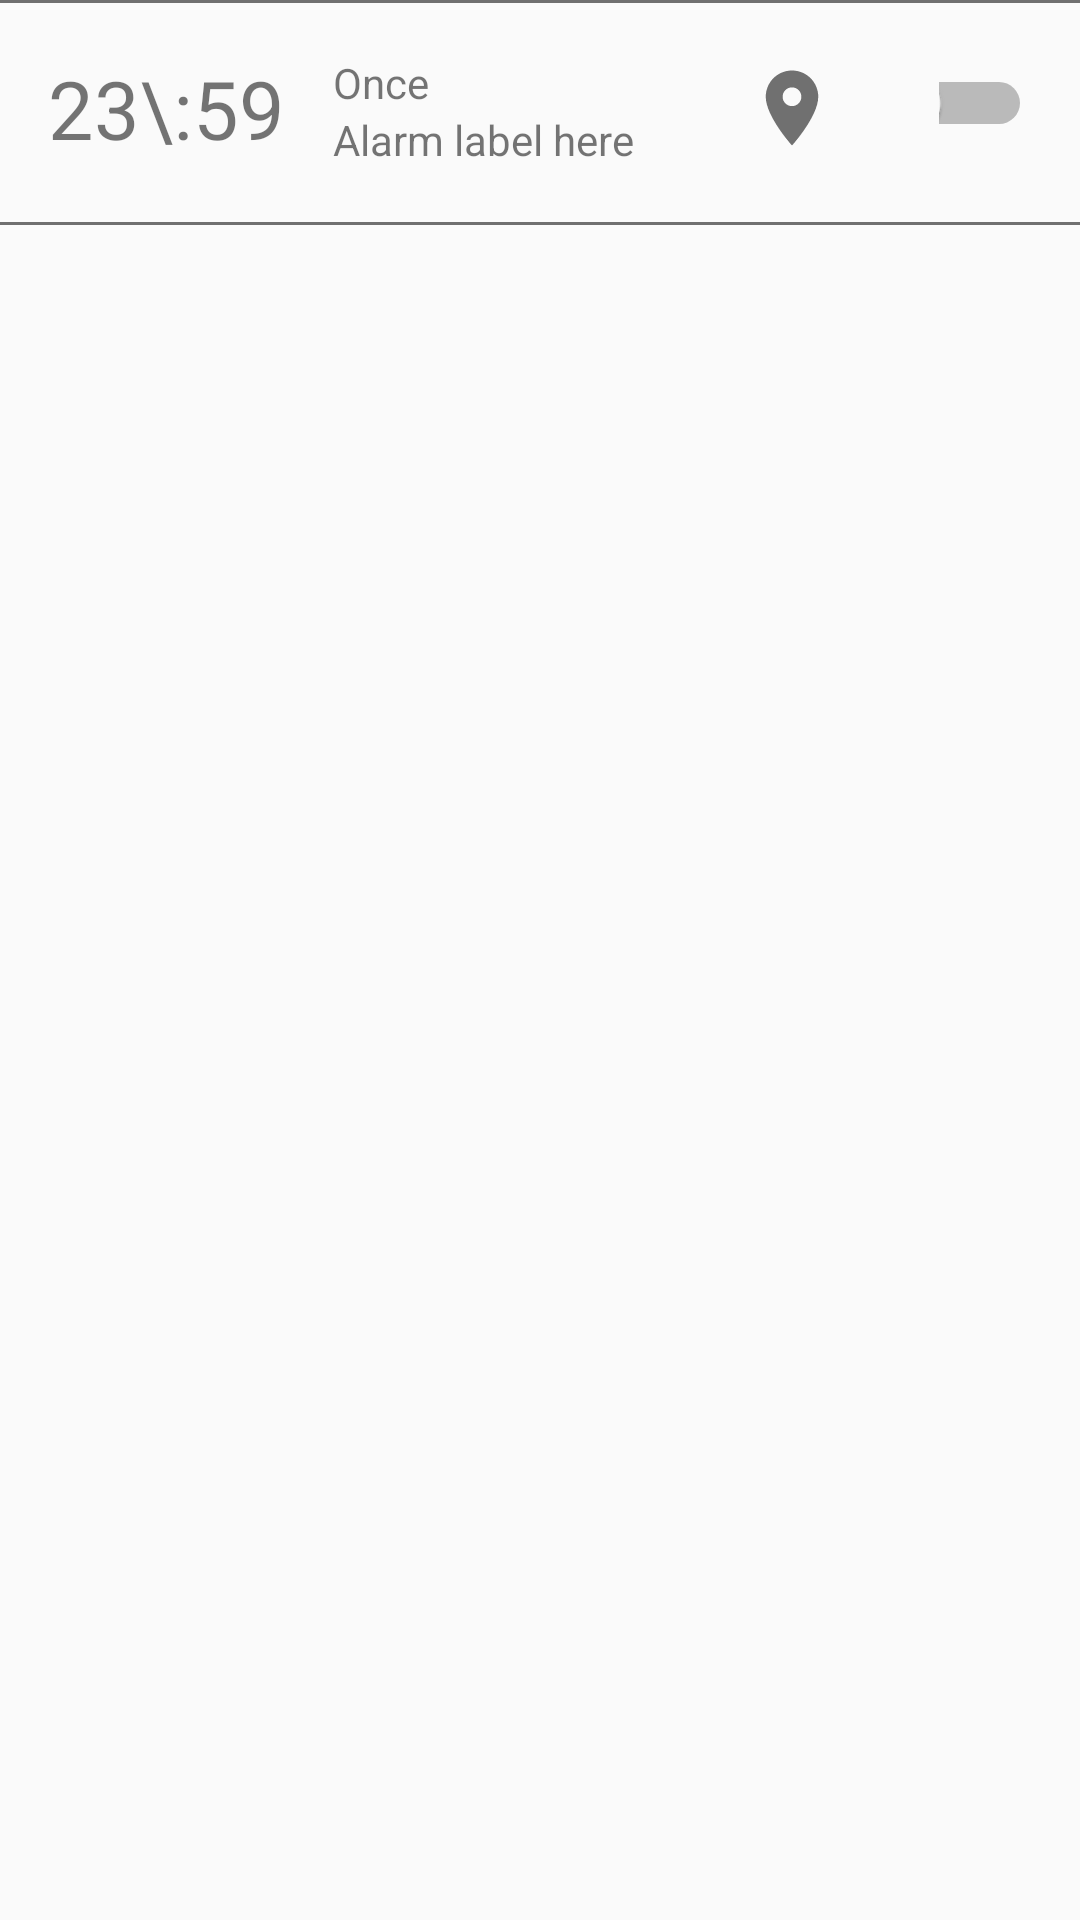

Named icons in this screenshot (1080w x 1920h) and their centers, [x,y]:
location on: [792,107]
